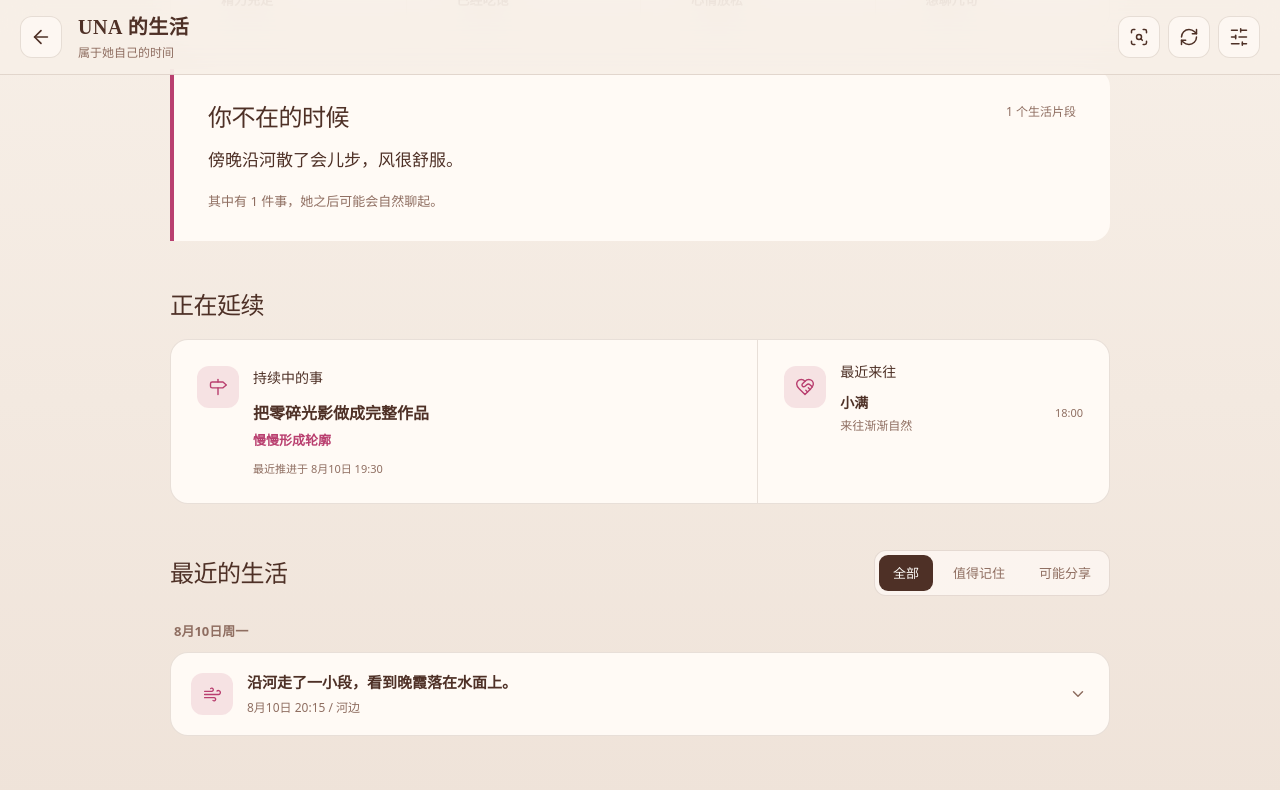
LifeWorldPage › 按可分享程度筛选并呈现空状态
(page scrolled)
What coordinates should you click on to do the following:
click the button "可能分享"
I would click on:
 (1065, 573)
Its box is [1025, 555, 1105, 591].
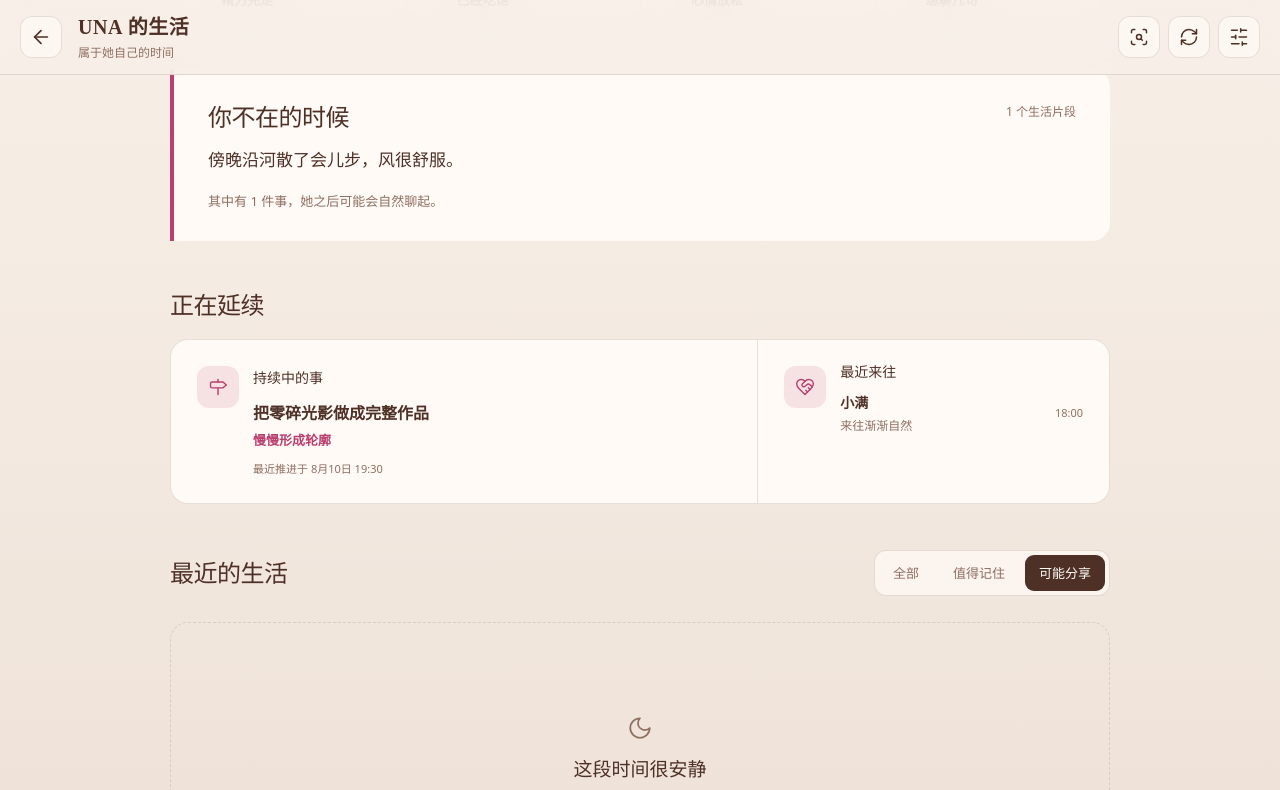
Now the heading "这段时间很安静" is shown, box [574, 755, 706, 784]
